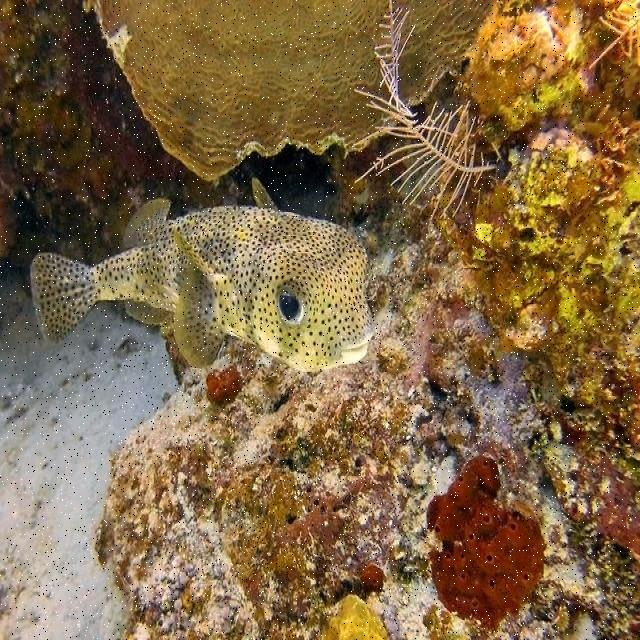fish: (29, 177, 377, 370)
reefs: (90, 0, 496, 177), (354, 3, 494, 215)
sea-floor: (102, 4, 640, 640)
